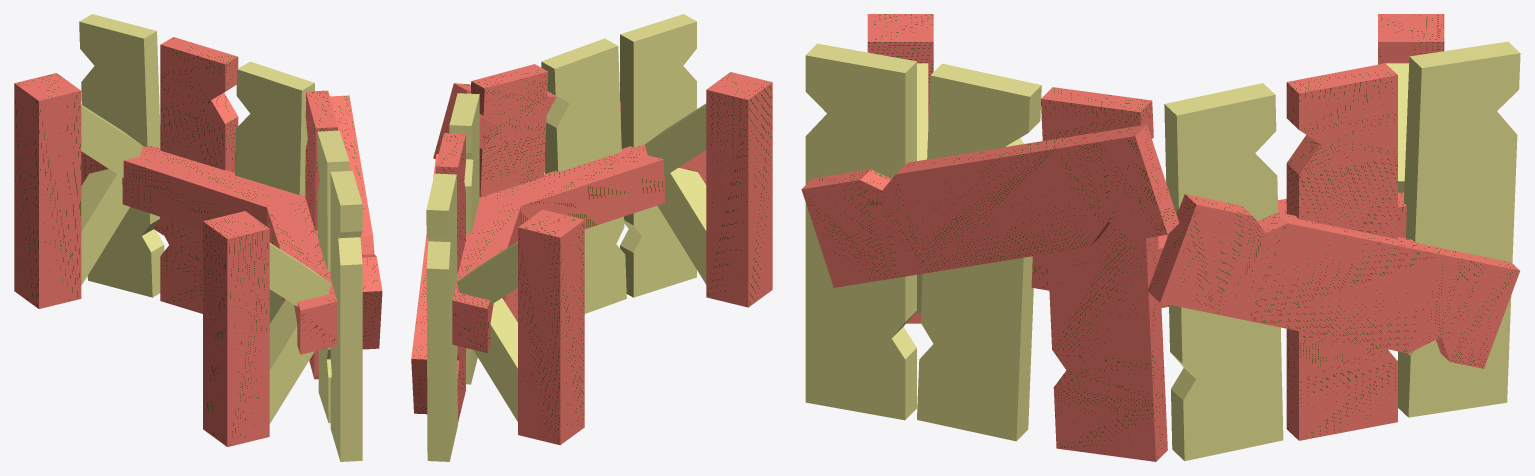
The model's file is bumper_wood.fbx.
3 views of the same model, side by side, from view 1: azimuth 30°, elevation 25°; view 2: azimuth 150°, elevation 25°; view 3: azimuth 270°, elevation 25° (orthographic). The views are drawn at different scales.
Parts seen in each view (by area): view 1: bumper_wood; view 2: bumper_wood; view 3: bumper_wood.
Boxes of the visible parts, x1=… form: bumper_wood: x1=14, y1=14, x2=382, y2=461; bumper_wood: x1=411, y1=14, x2=772, y2=461; bumper_wood: x1=801, y1=14, x2=1520, y2=461.
Bounding box in the file's own units: 118 × 127 × 236.
